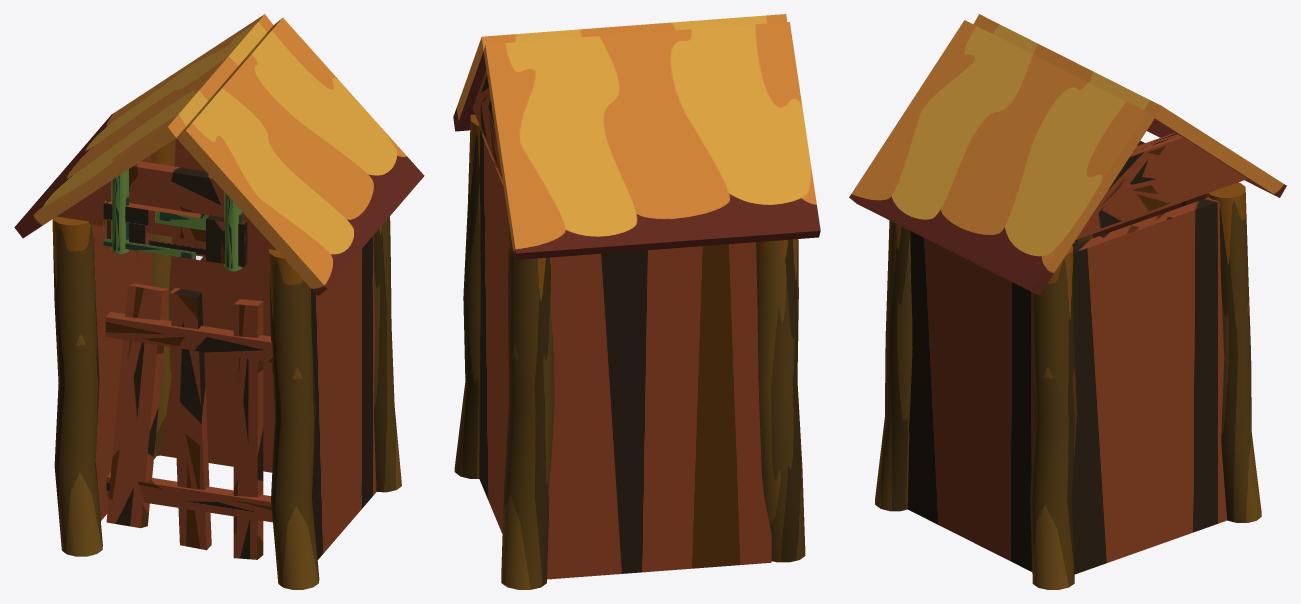
The model's file is GRP_PRMC_Caseta.FBX.
The picture shows the model from 3 angles, left to right: view 1: azimuth 30°, elevation 25°; view 2: azimuth 150°, elevation 25°; view 3: azimuth 270°, elevation 25°; orthographic projection. The views are drawn at different scales.
Parts seen in each view (by area): view 1: CS01_Techo02, CS01_Pared03, CS01_Tronco04, CS01_Tronco03, CS01_Techo01, CS01_Pared02, CS01_Tablon01, CS01_Tablon02, CS01_Pared01, CS01_Tablon03, CS01_Techo03, CS01_Tronco02 (+6 smaller); view 2: CS01_Pared01, CS01_Techo01, CS01_Tronco01, CS01_Tronco04, CS01_Pared02, CS01_Tronco02, CS01_Techo02, CS01_Techo04; view 3: CS01_Pared02, CS01_Techo02, CS01_Pared03, CS01_Tronco02, CS01_Tronco01, CS01_Techo04, CS01_Tronco03, CS01_Techo01, CS01_Pared01.
Part boxes in pixels (box(x1,y1,x2,y2)): CS01_Techo02: box(176, 18, 424, 295); CS01_Pared03: box(311, 235, 376, 559); CS01_Tronco04: box(52, 216, 102, 556); CS01_Tronco03: box(269, 249, 319, 589); CS01_Techo01: box(14, 14, 273, 238); CS01_Pared02: box(160, 138, 274, 472); CS01_Tablon01: box(106, 283, 169, 528); CS01_Tablon02: box(170, 287, 211, 550); CS01_Pared01: box(94, 154, 155, 520); CS01_Tablon03: box(233, 299, 263, 559); CS01_Techo03: box(57, 161, 276, 251); CS01_Tronco02: box(373, 216, 401, 492); CS01_Pared01: box(547, 242, 771, 579); CS01_Techo01: box(483, 22, 820, 259); CS01_Tronco01: box(501, 220, 554, 589); CS01_Tronco04: box(756, 239, 805, 562); CS01_Pared02: box(479, 130, 508, 533); CS01_Tronco02: box(454, 114, 481, 478); CS01_Techo02: box(453, 14, 787, 131); CS01_Techo04: box(472, 70, 502, 179); CS01_Pared02: box(1072, 197, 1227, 574); CS01_Techo02: box(849, 20, 1154, 295); CS01_Pared03: box(907, 231, 1034, 571); CS01_Tronco02: box(1030, 246, 1076, 589); CS01_Tronco01: box(1206, 182, 1261, 522); CS01_Techo04: box(1076, 133, 1247, 239); CS01_Tronco03: box(875, 220, 912, 511); CS01_Techo01: box(973, 14, 1286, 197); CS01_Pared01: box(1093, 141, 1206, 238).
Bounding box in the file's own units: 3.04 × 3.46 × 3.08.
